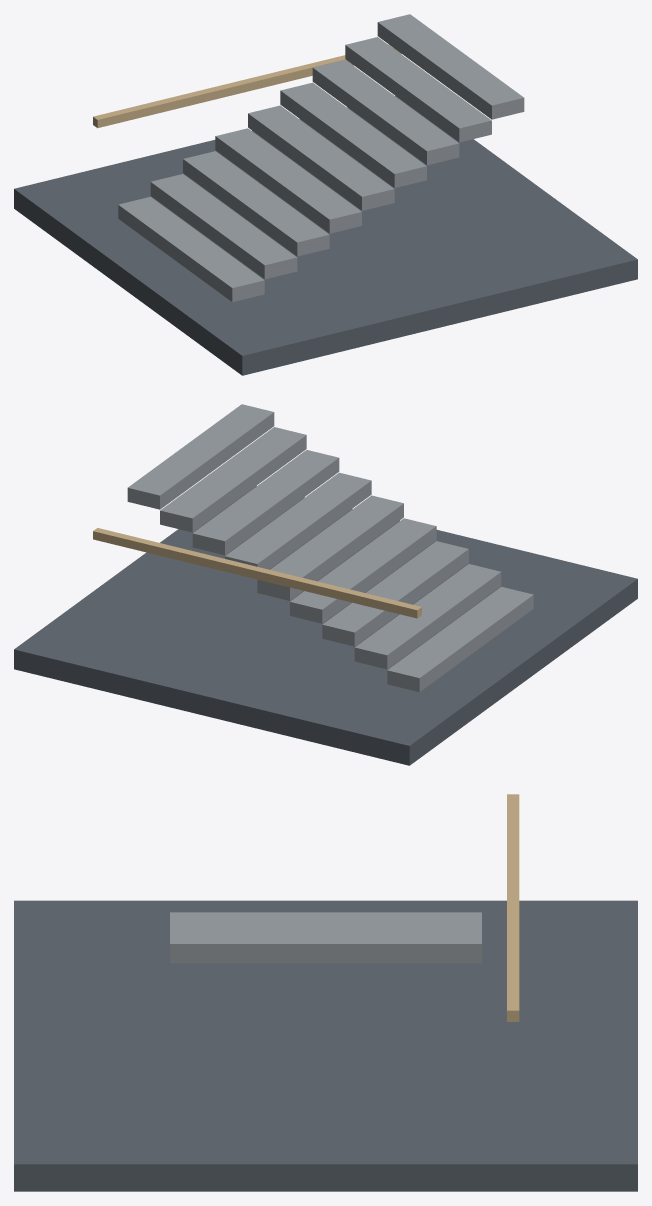
Rendered from escenario_stairwell.glb.
The picture shows the model from 3 angles, top to bottom: view 1: azimuth 30°, elevation 25°; view 2: azimuth 150°, elevation 25°; view 3: azimuth 270°, elevation 25°; orthographic projection. The views are drawn at different scales.
Size of the model in its own units: 5 by 1.86 by 5.
